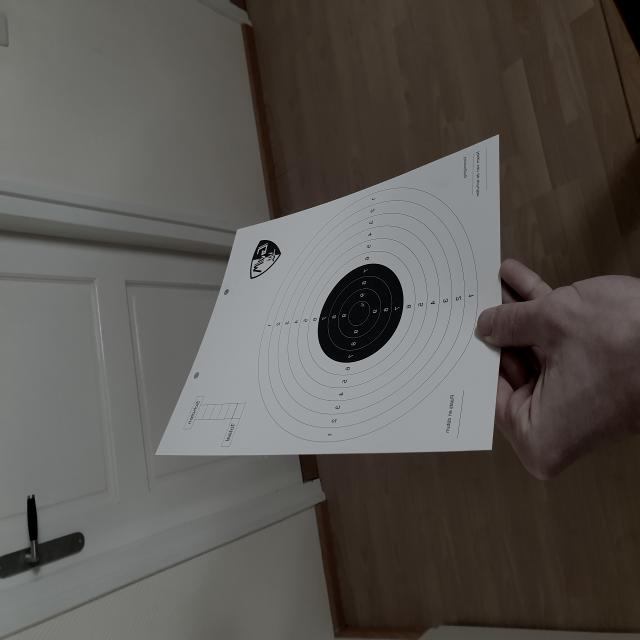10: (359, 301, 366, 309)
Target: (257, 187, 477, 440)
black_contour: (318, 264, 403, 363)
